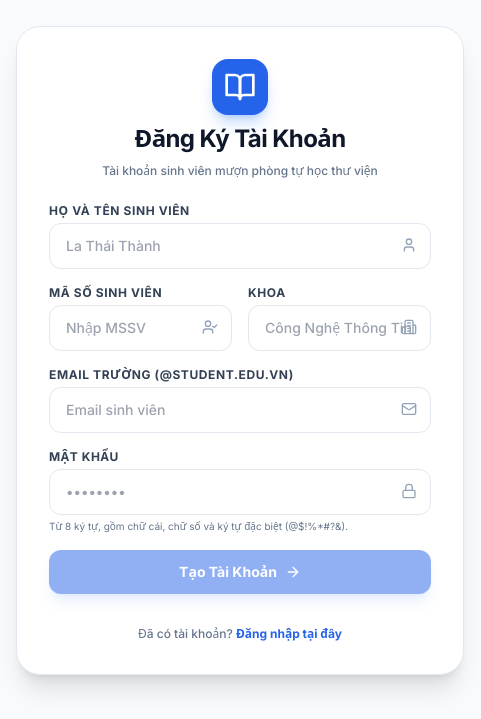
Test: RegisterPage › hiển thị lỗi dưới ô MSSV khi thiếu hoặc thừa số, và xóa lỗi khi hợp lệ
Type "5210066" into the field with placeholder "Nhập MSSV" at (140, 328), box 49,304 -> 232,350
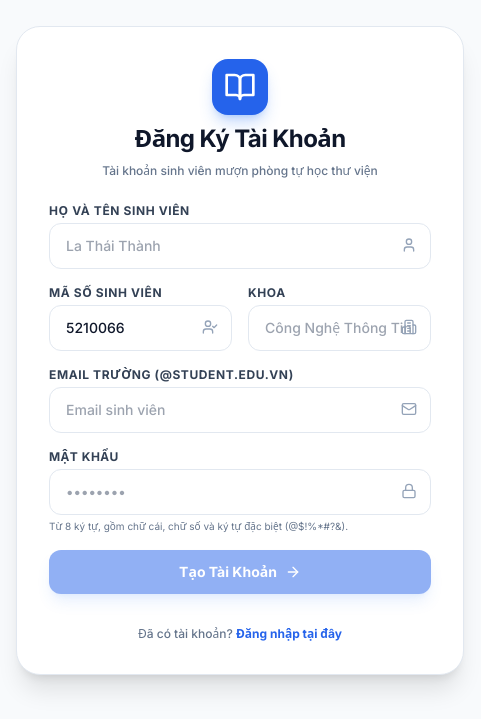
Leave the field with placeholder "Nhập MSSV", box 49,304 -> 232,350
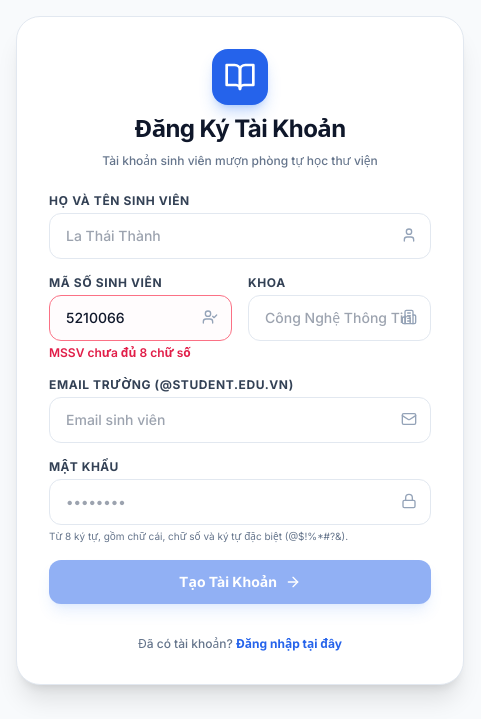
expect the text "MSSV chưa đủ 8 chữ số" is shown: met, box 49,344 -> 191,360
Replace the text in the field with placeholder "Nhập MSSV" with "521006666" at (140, 318), box 49,294 -> 232,340
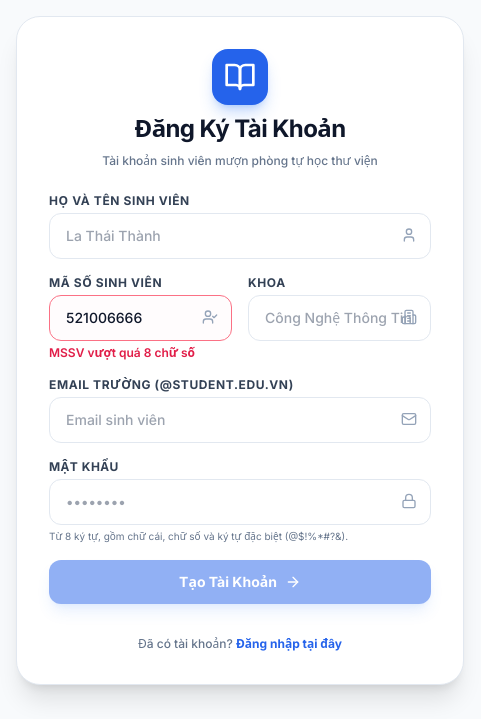
expect the text "MSSV vượt quá 8 chữ số" is shown: met, box 49,344 -> 195,360
Replace the text in the field with placeholder "Nhập MSSV" with "5210066a" at (140, 318), box 49,294 -> 232,340
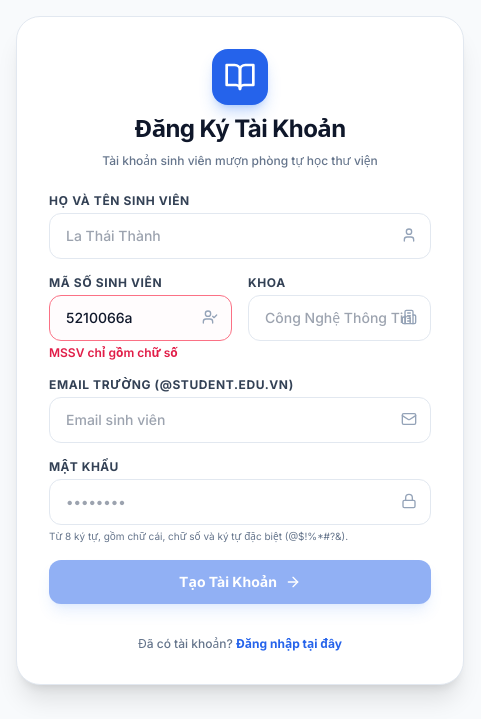
expect the text "MSSV chỉ gồm chữ số" is shown: met, box 49,344 -> 178,360
Replace the text in the field with placeholder "Nhập MSSV" with "52100666" at (140, 318), box 49,294 -> 232,340
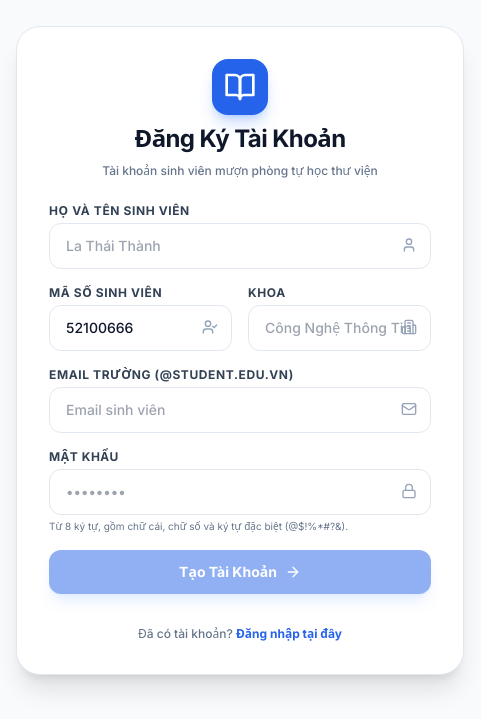
expect the text "MSSV chưa đủ 8 chữ số" is not shown: met
expect the text "MSSV chỉ gồm chữ số" is gone: met
